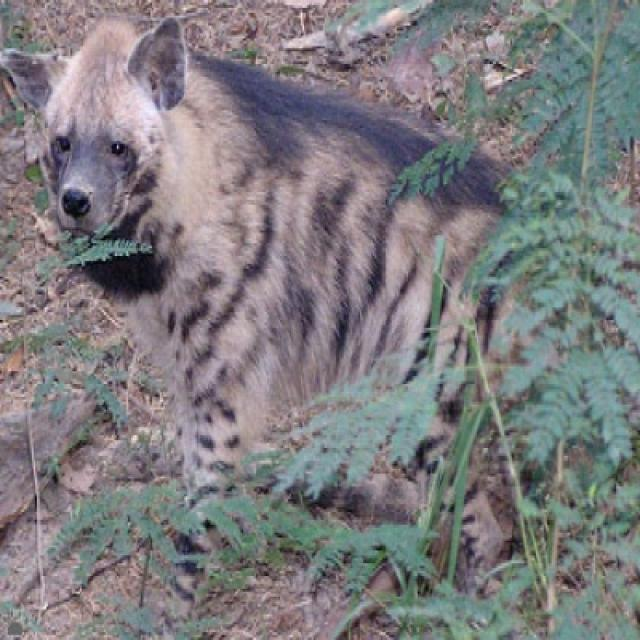hyena: (43, 16, 509, 490)
